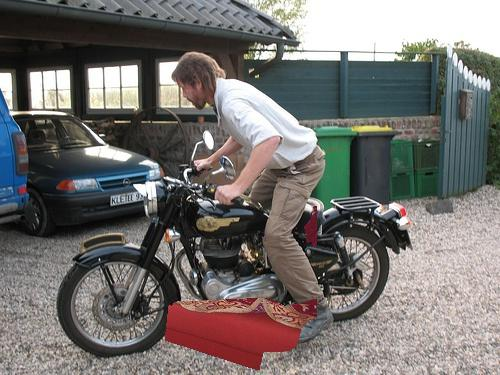tampered: (166, 206, 317, 370)
